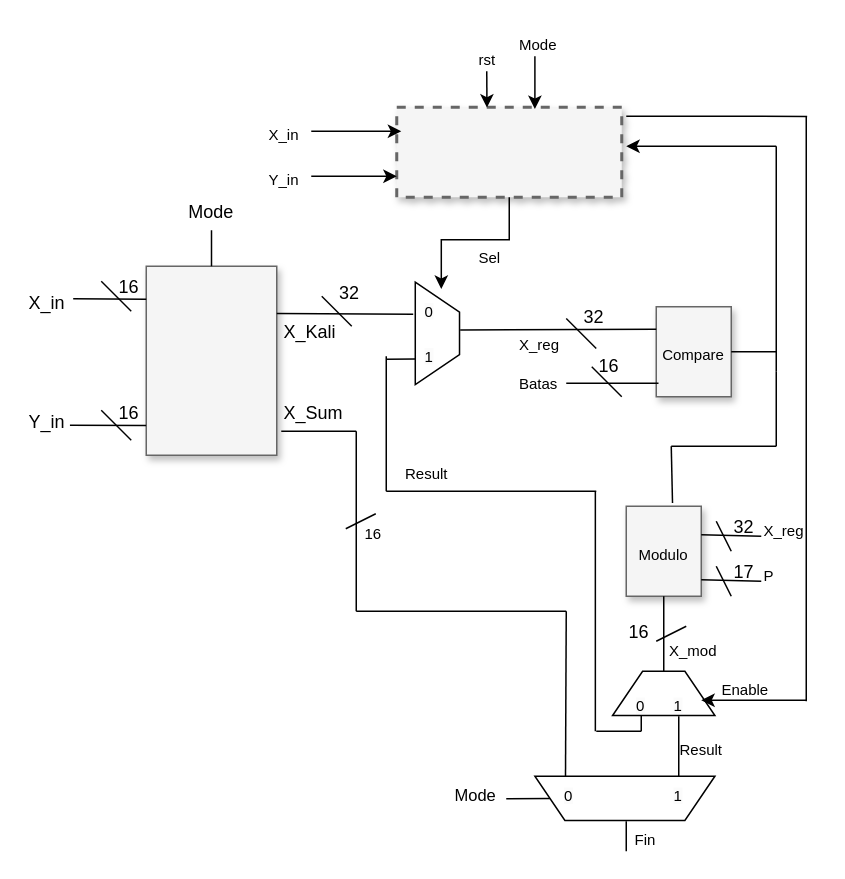
Some shapes in this 845 by 879 pixel diagram are drawn without their labels. The shapes that lost their labels are listed below. From the top down, each one's centre as x and y in pixels, then its label:
At [510,153]: "FSM".
At [212,362]: "Kali(1) Jumlah(0)".
